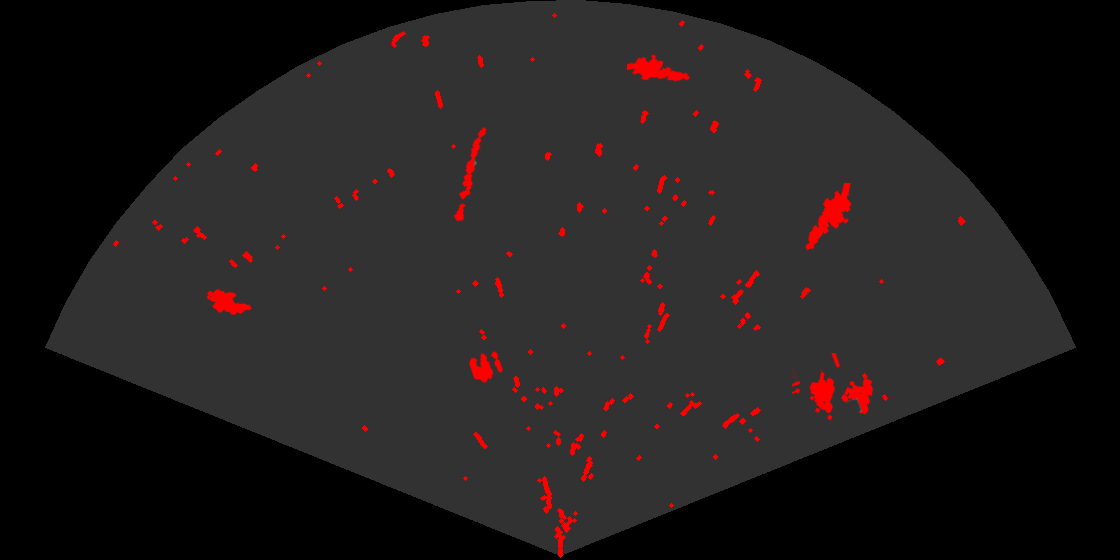AUV: (205, 288, 253, 317)
ball: (467, 350, 504, 384)
cage: (792, 353, 875, 422)
chain: (452, 126, 488, 224)
frogman: (804, 183, 853, 252), (627, 53, 692, 83)
